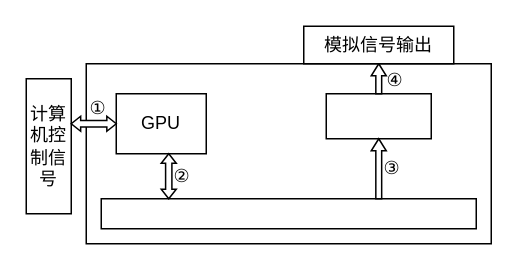
Some shapes in this 518 by 270 pixel diagram are drawn without their labels. Each missing label, with the box of its shape:
RAMDAC: (325, 92, 431, 139)
显存: (100, 197, 476, 229)
